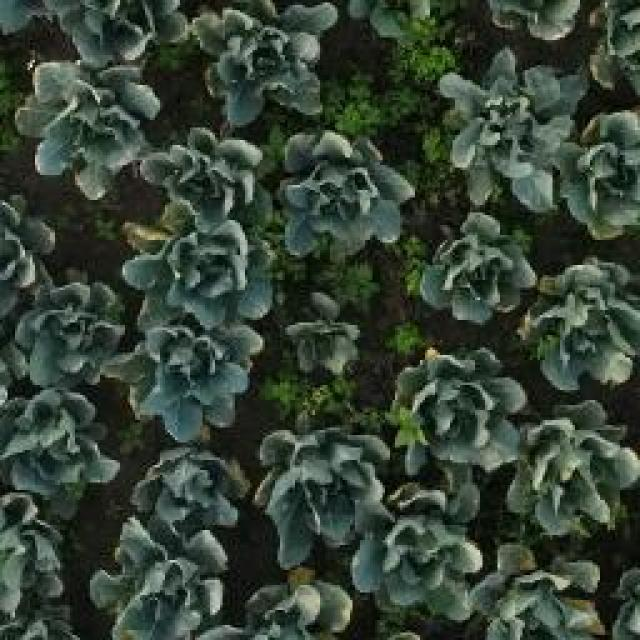cabbage: (447, 59, 578, 208), (106, 323, 256, 443), (20, 61, 161, 188), (191, 0, 330, 123), (286, 131, 414, 253), (516, 404, 638, 529), (260, 429, 386, 550), (124, 220, 277, 319), (363, 484, 474, 620), (94, 530, 231, 640), (522, 260, 637, 388), (1, 387, 120, 506), (142, 128, 276, 232), (398, 352, 508, 470), (418, 216, 532, 323), (476, 548, 605, 640), (11, 283, 124, 387), (132, 444, 253, 540), (0, 488, 63, 639), (562, 124, 640, 237), (45, 0, 187, 55), (241, 580, 353, 640), (286, 296, 356, 373)
